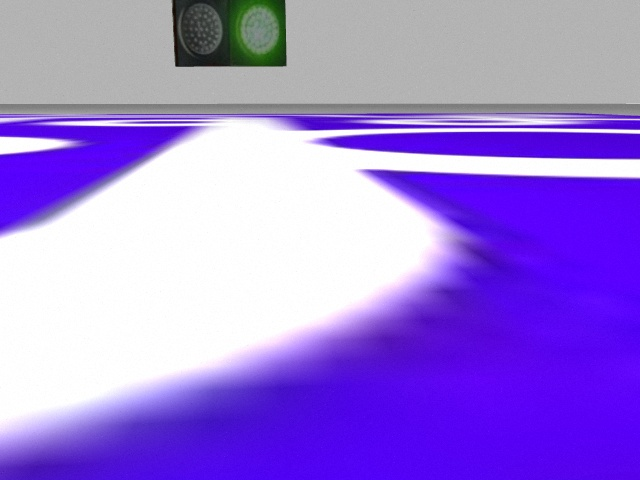green: (227, 1, 289, 66)
